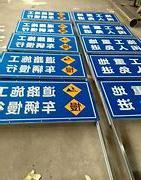sign: (1, 81, 91, 120), (1, 53, 82, 78), (102, 80, 141, 119), (89, 53, 141, 79), (8, 34, 77, 51), (83, 37, 141, 53), (16, 21, 72, 35), (20, 8, 70, 22), (77, 23, 134, 35), (74, 11, 120, 22)
